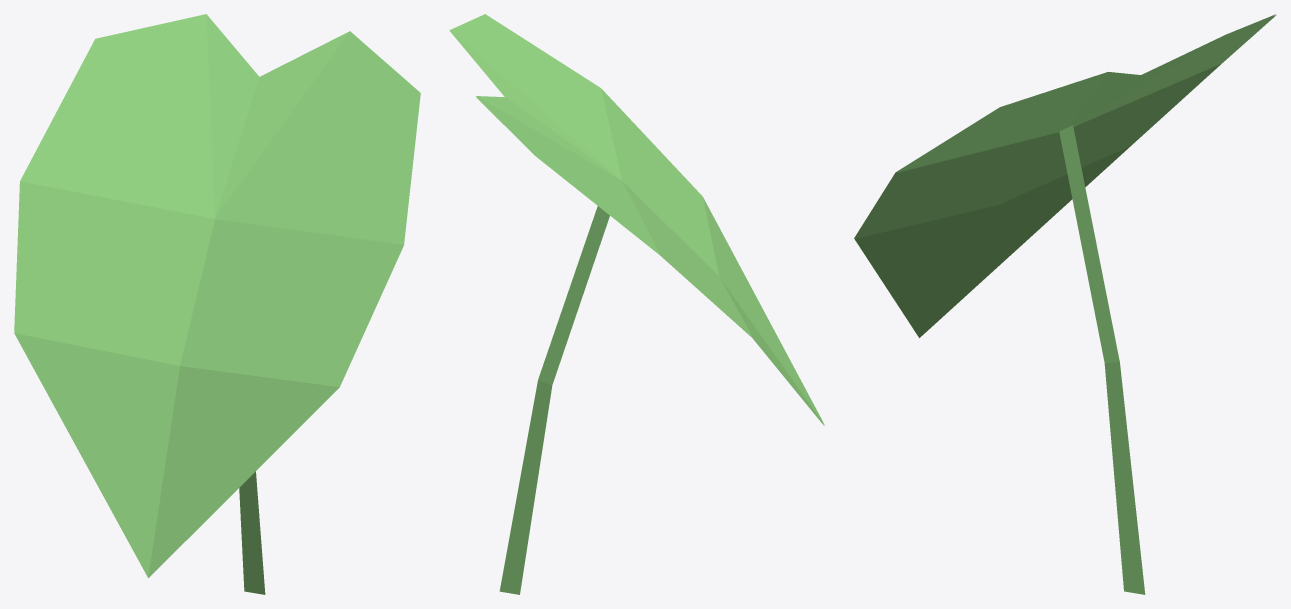
Rendered from Plant_d_TwoS_02.fbx.
3 views of the same model, side by side, from view 1: azimuth 30°, elevation 25°; view 2: azimuth 150°, elevation 25°; view 3: azimuth 270°, elevation 25° (orthographic). The views are drawn at different scales.
Parts seen in each view (by area): view 1: Plant_d_TwoS_02; view 2: Plant_d_TwoS_02; view 3: Plant_d_TwoS_02.
Boxes of the visible parts, <box> form: Plant_d_TwoS_02: <box>14,14,420,594</box>; Plant_d_TwoS_02: <box>449,14,824,594</box>; Plant_d_TwoS_02: <box>854,14,1276,594</box>.
Size of the model in its own units: 40.72 by 62.62 by 43.04.
